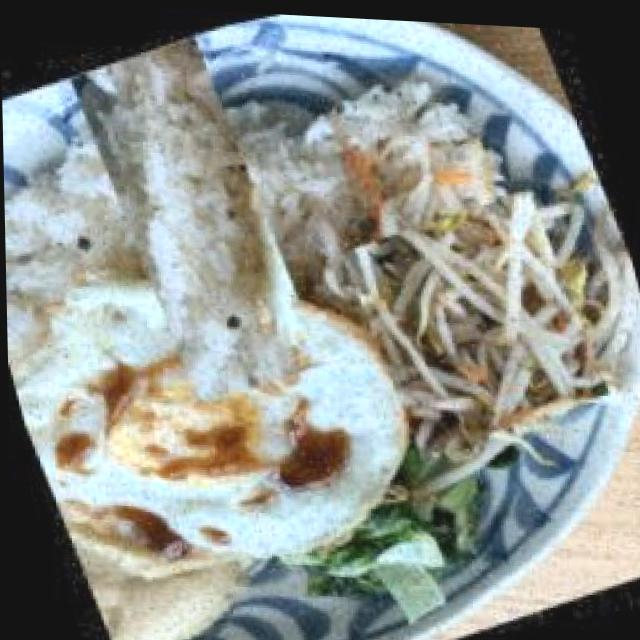fried_eggs: (3, 185, 449, 636)
mung_bean_sprouts: (331, 171, 619, 466)
rice: (23, 33, 366, 385)
